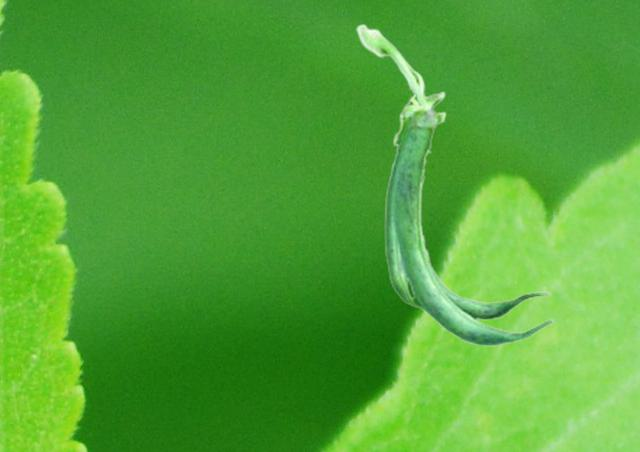french_bean: (355, 23, 553, 346)
